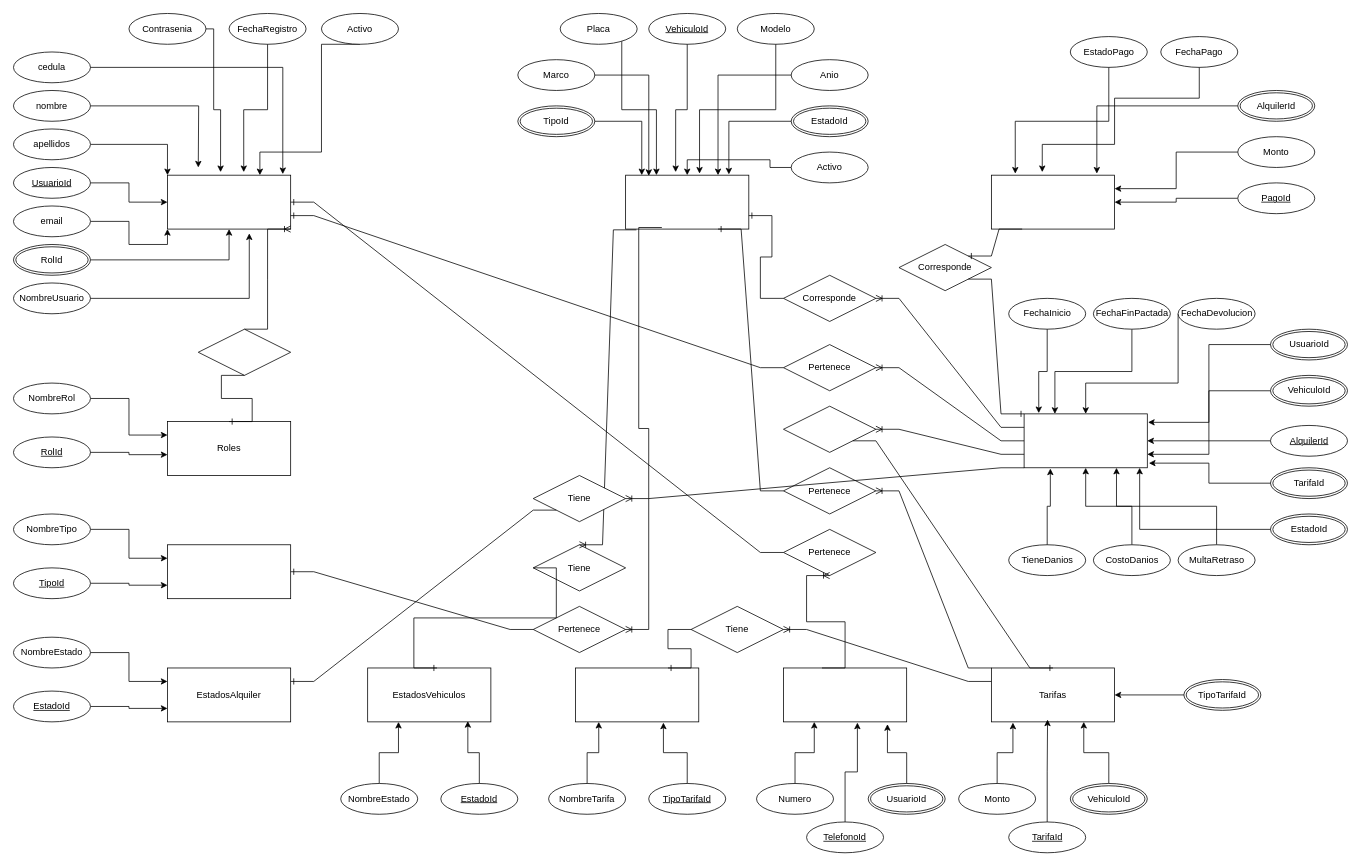
This 1361x866 diagram has some shape labels left out. Each missing label, with the box of its shape:
Alquileres: (1023, 413, 1147, 468)
Pagos: (991, 174, 1115, 229)
Telefonos: (783, 667, 907, 722)
Tiene exactamente: (198, 328, 291, 375)
TiposTarifa: (575, 667, 699, 722)
TiposVehiculos: (167, 544, 291, 599)
Usa: (783, 405, 876, 452)
Usuarios: (167, 174, 291, 229)
Vehiculos: (625, 174, 749, 229)
